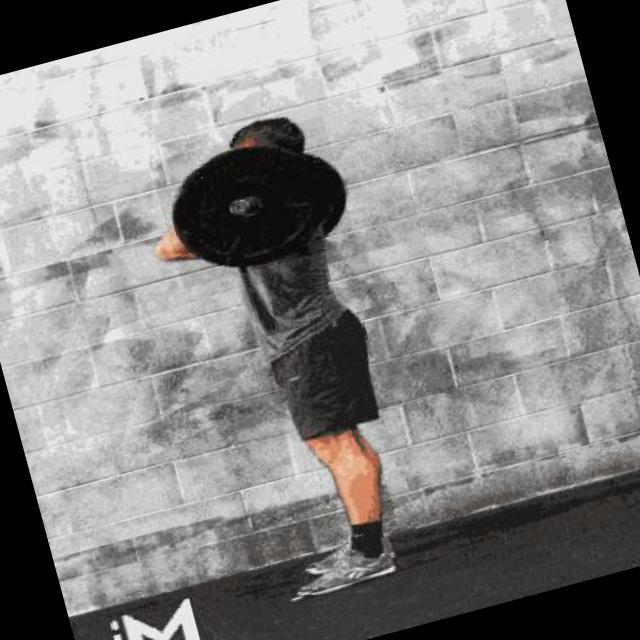barbell: (150, 117, 357, 290)
